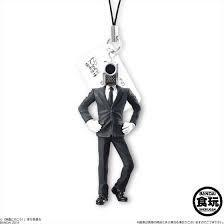no more kid: (102, 58, 118, 88)
